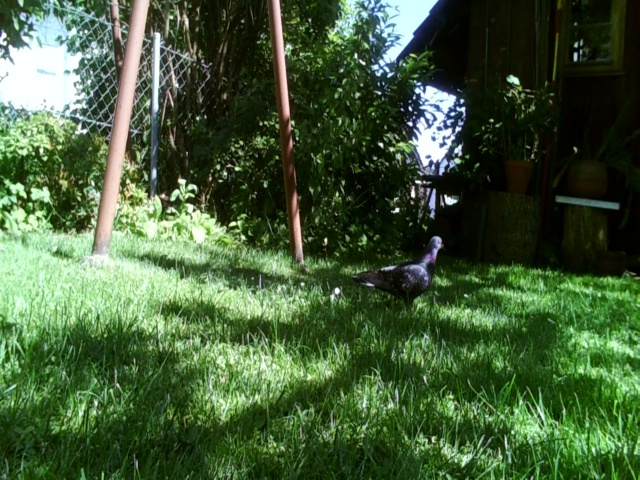Pigeon: (341, 237, 448, 311)
